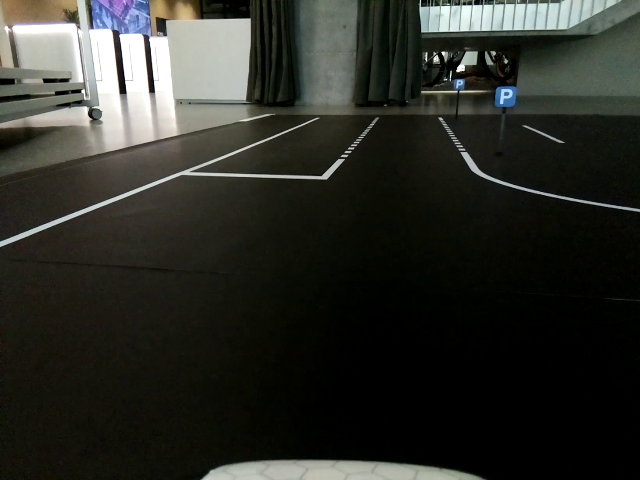park: (494, 86, 516, 106), (455, 80, 465, 90)
